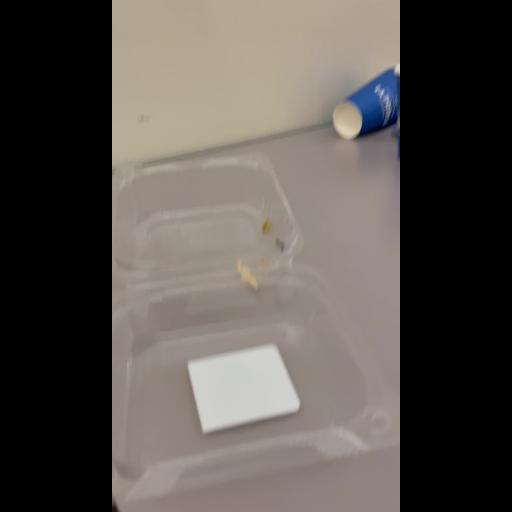lp_paper_cup: (332, 64, 400, 140)
small_plastic_container: (115, 154, 391, 492)
